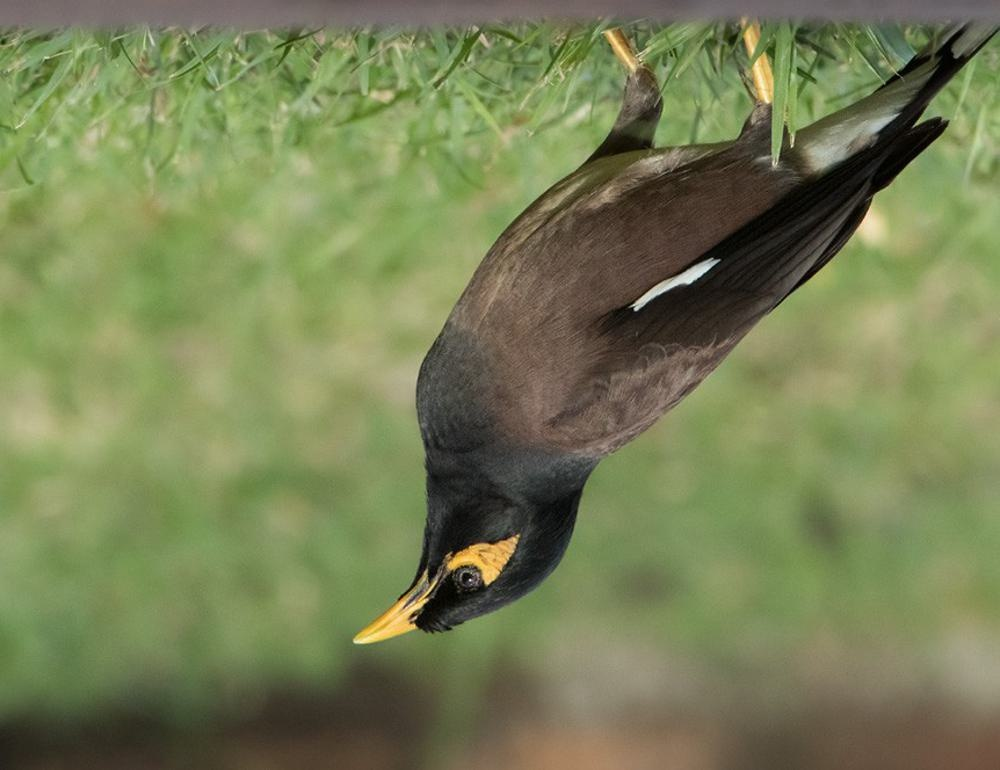myna: (336, 1, 992, 669)
